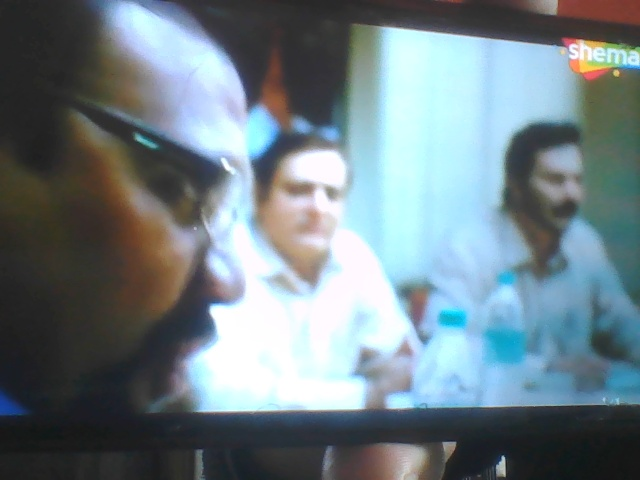fake: (250, 113, 360, 269)
